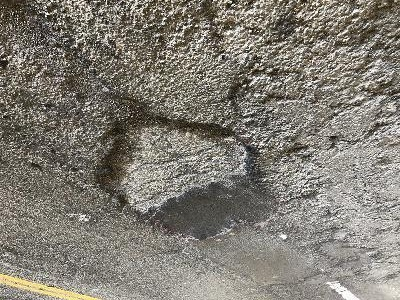pothole: (91, 95, 278, 244)
